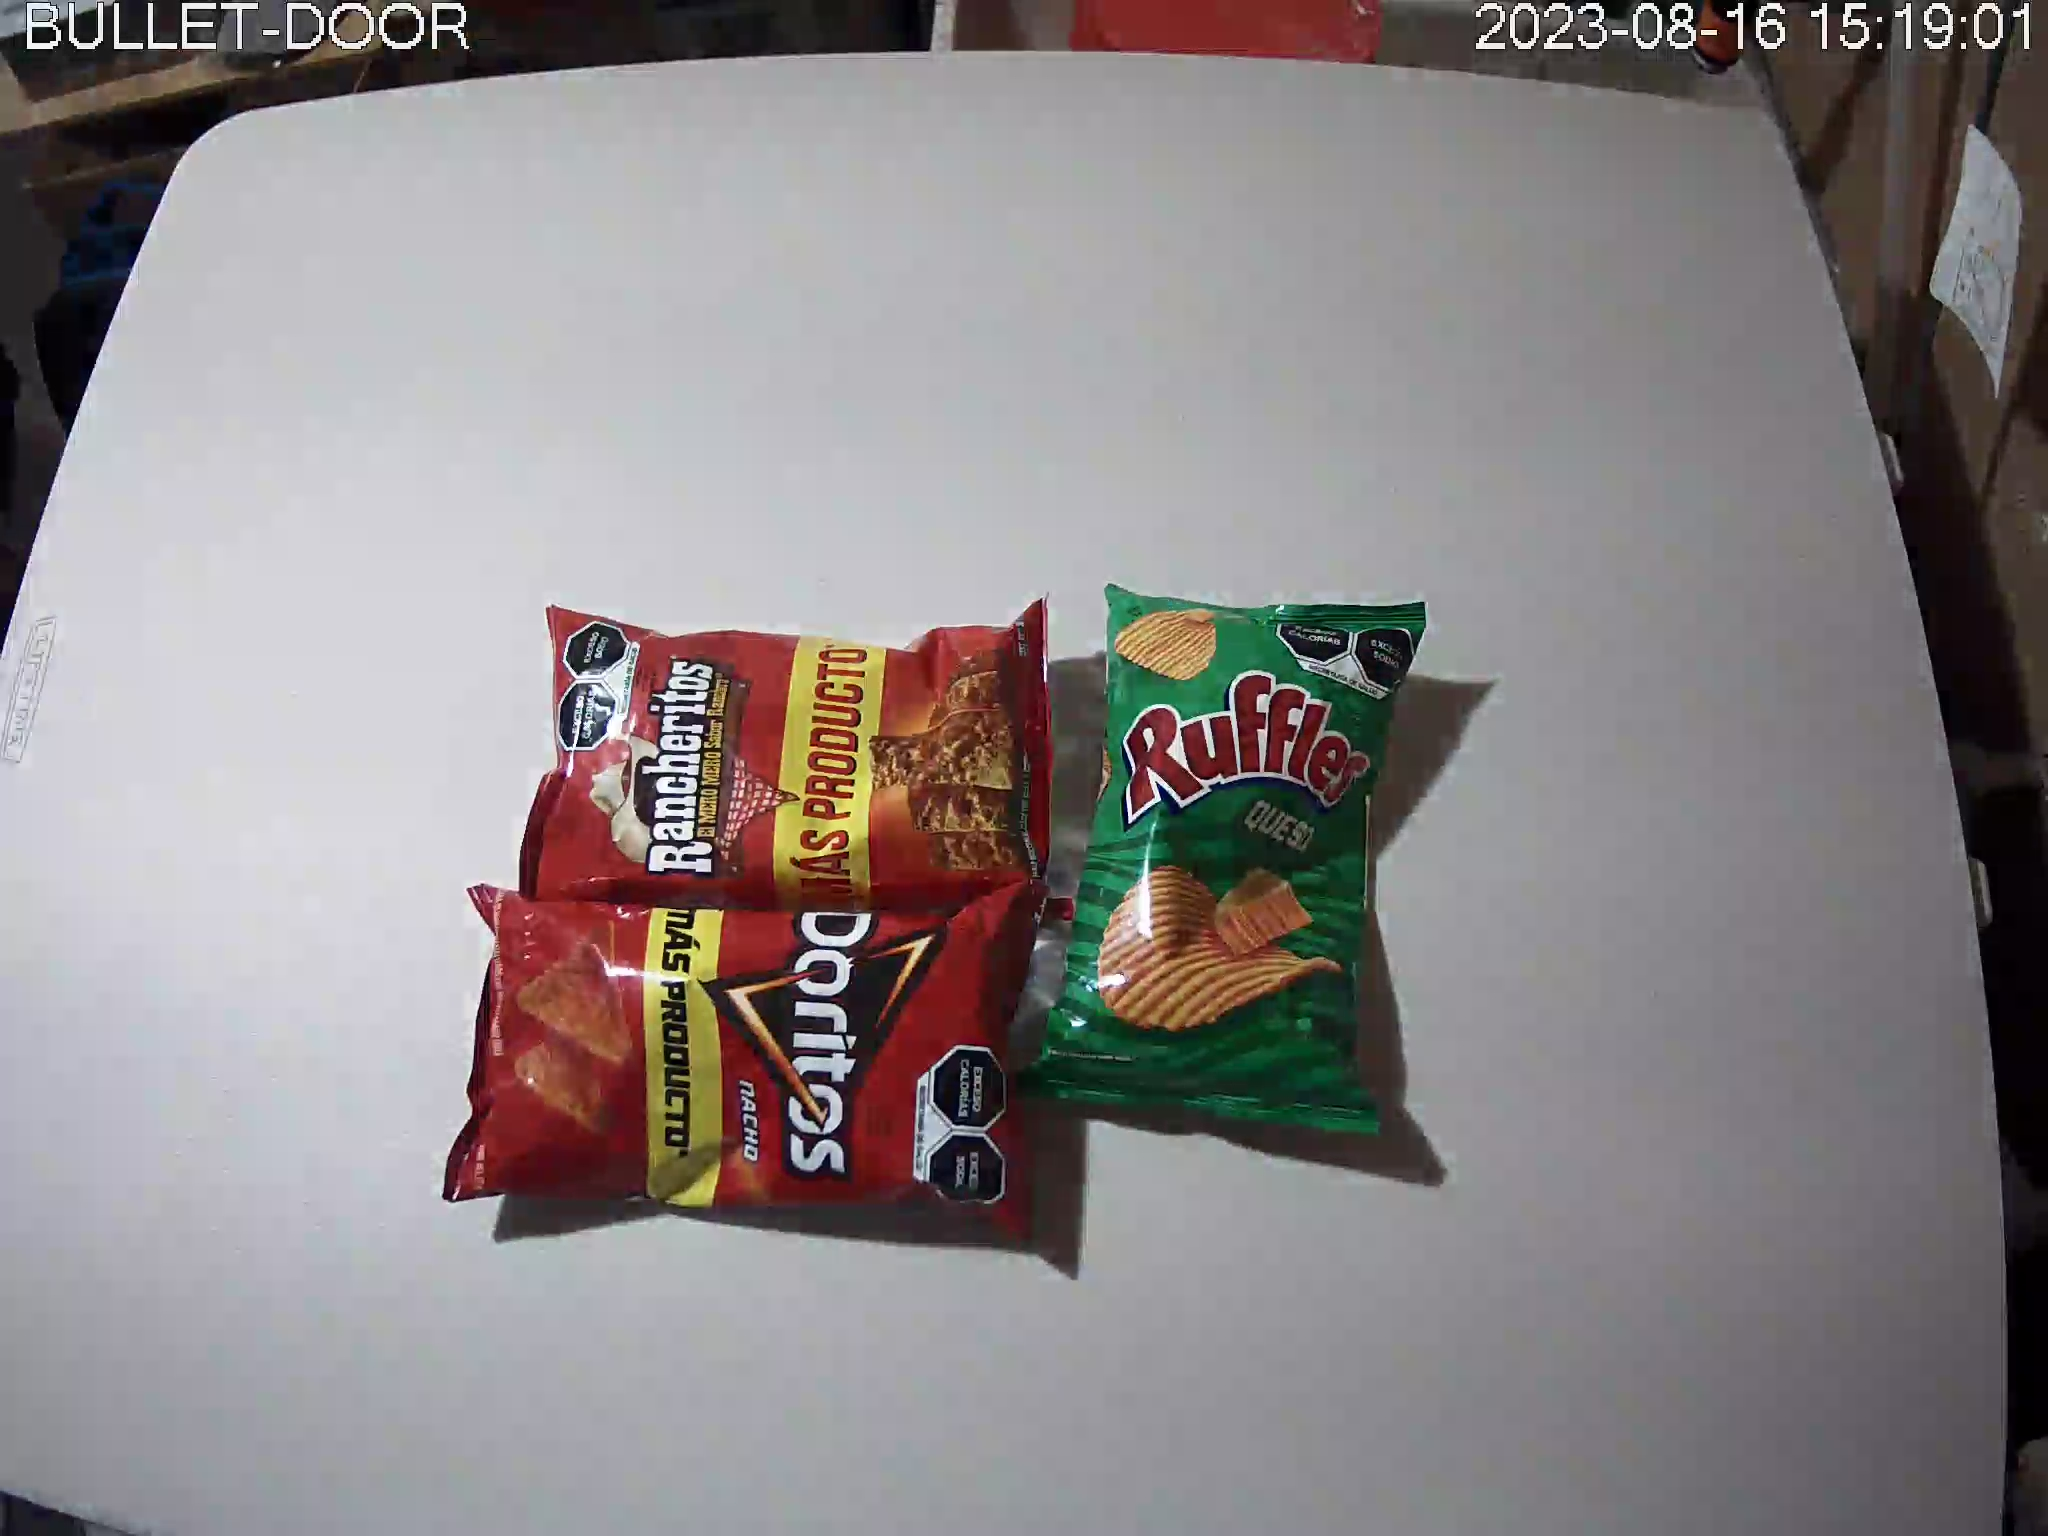DoritosN_61_F: (443, 884, 1050, 1250)
Rancheritos_58_F: (519, 587, 1055, 929)
RufflesQ_48_F: (1021, 582, 1429, 1134)
